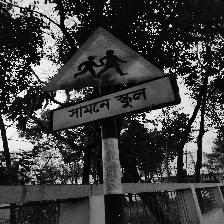School-in-front: (42, 26, 180, 133)
